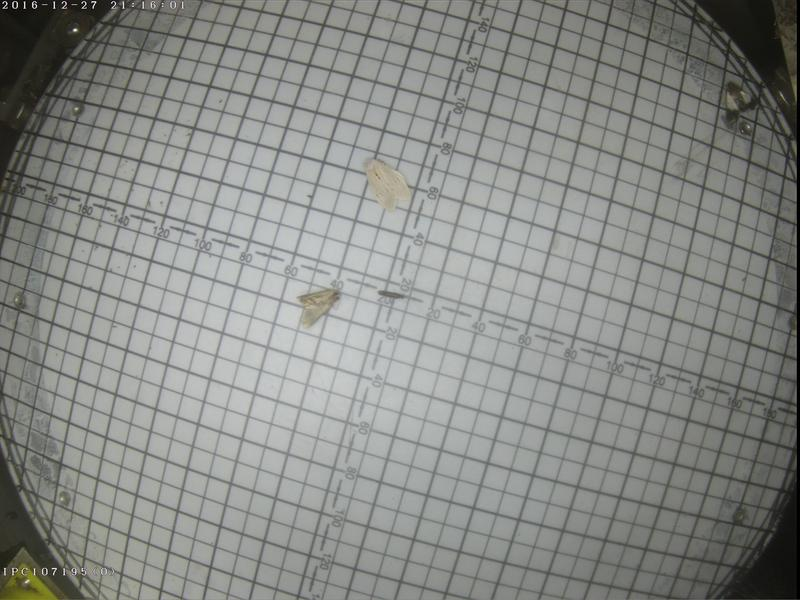Armyworm: (296, 281, 342, 328)
